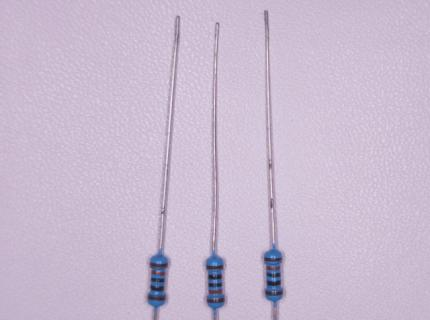Black band: (150, 285, 165, 291), (267, 280, 281, 286), (208, 283, 222, 288), (209, 274, 222, 279), (151, 278, 165, 282), (267, 273, 280, 277)
Brown band: (265, 290, 283, 296), (148, 295, 165, 301), (150, 263, 168, 268), (207, 298, 225, 303), (264, 258, 282, 262), (206, 265, 223, 269)
Orange band: (152, 270, 165, 276), (208, 289, 222, 294), (267, 266, 280, 270)
